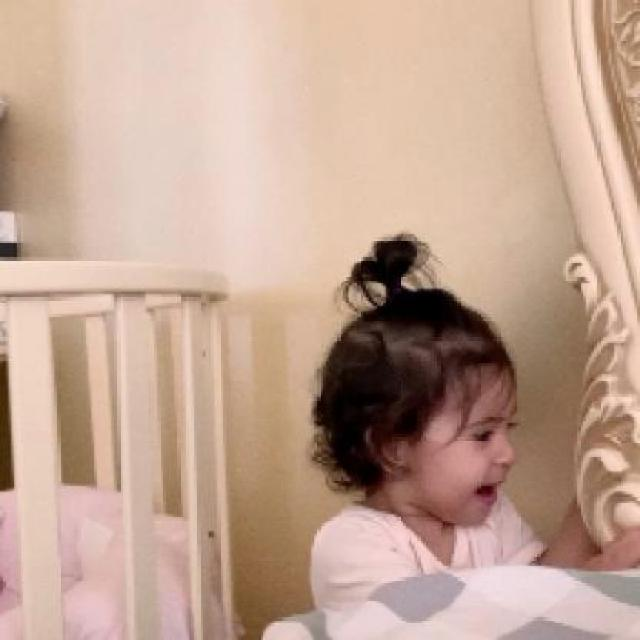child: (308, 228, 638, 612)
